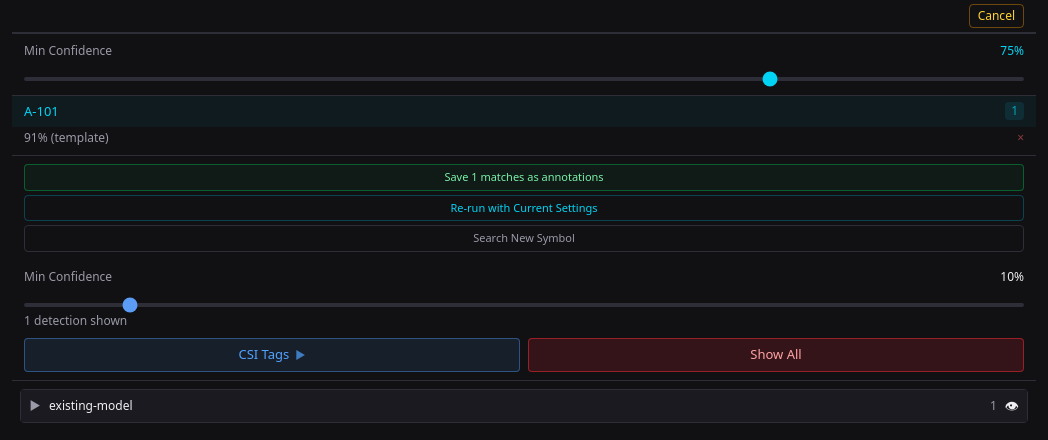
Test case: SymbolSearchPanel annotation-save — guard, raw-fetch failure, and append+clear › demo guard keeps search results and performs no annotation write
This screenshot has width=1048, height=440.
Click the button "Save 1 matches as annotations" at (524, 177), box [24,164,1024,190]
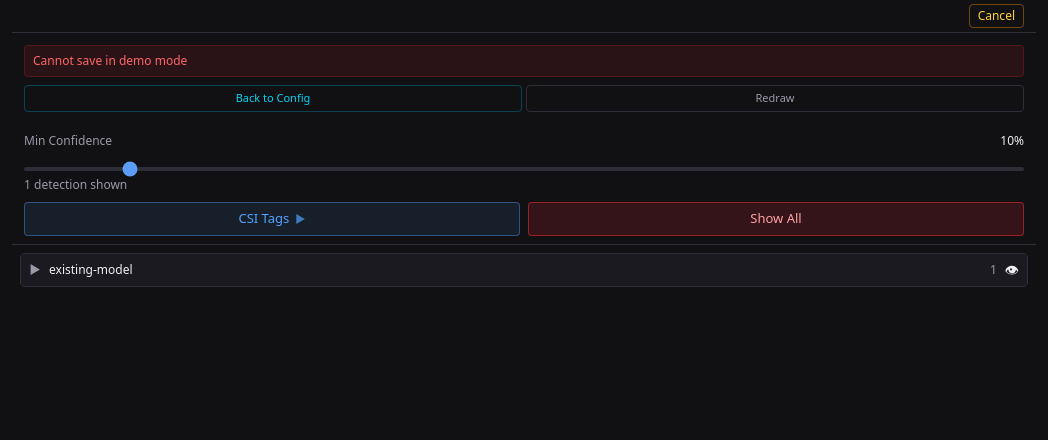
Expected: the text "1 detection shown" is shown, [24,176,127,193]
Expected: the text "Cannot save in demo mode" is shown, [24,45,1024,77]
Click the button "Back to Config" at (273, 98), box [24,85,522,112]
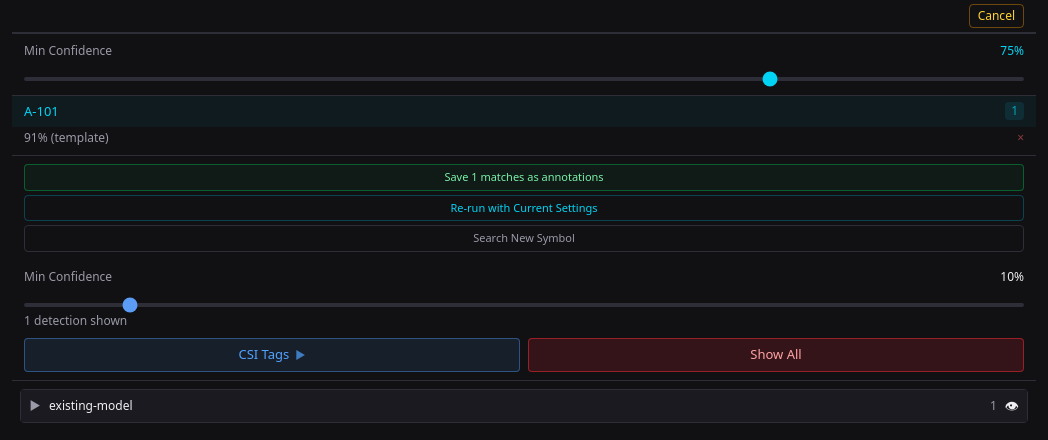
Expected: the button "Save 1 matches as annotations" is enabled, [24,164,1024,190]
